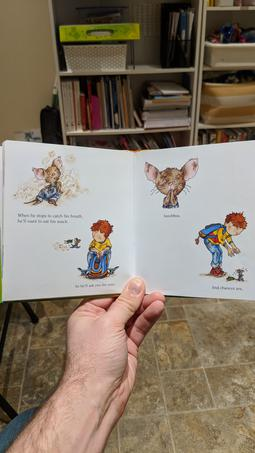text block: (13, 207, 92, 229), (70, 279, 121, 293), (207, 280, 247, 296), (158, 210, 190, 221)
